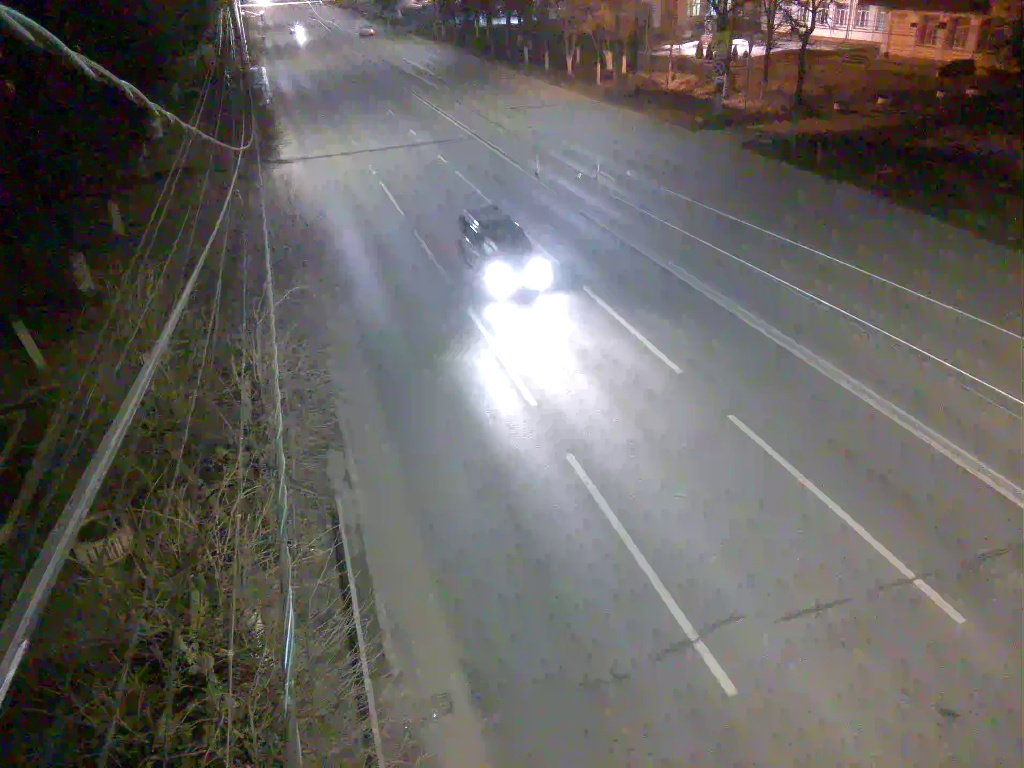car: (452, 203, 565, 317)
